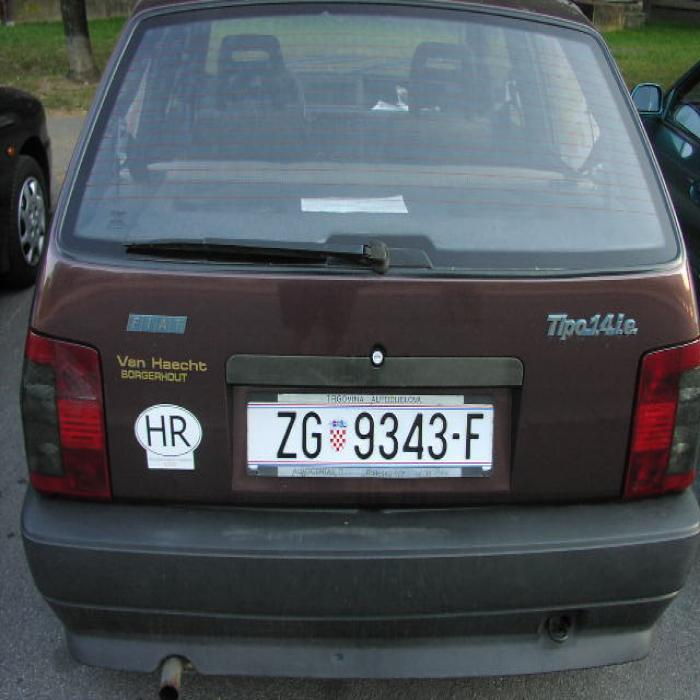number_plate: (245, 404, 490, 464)
